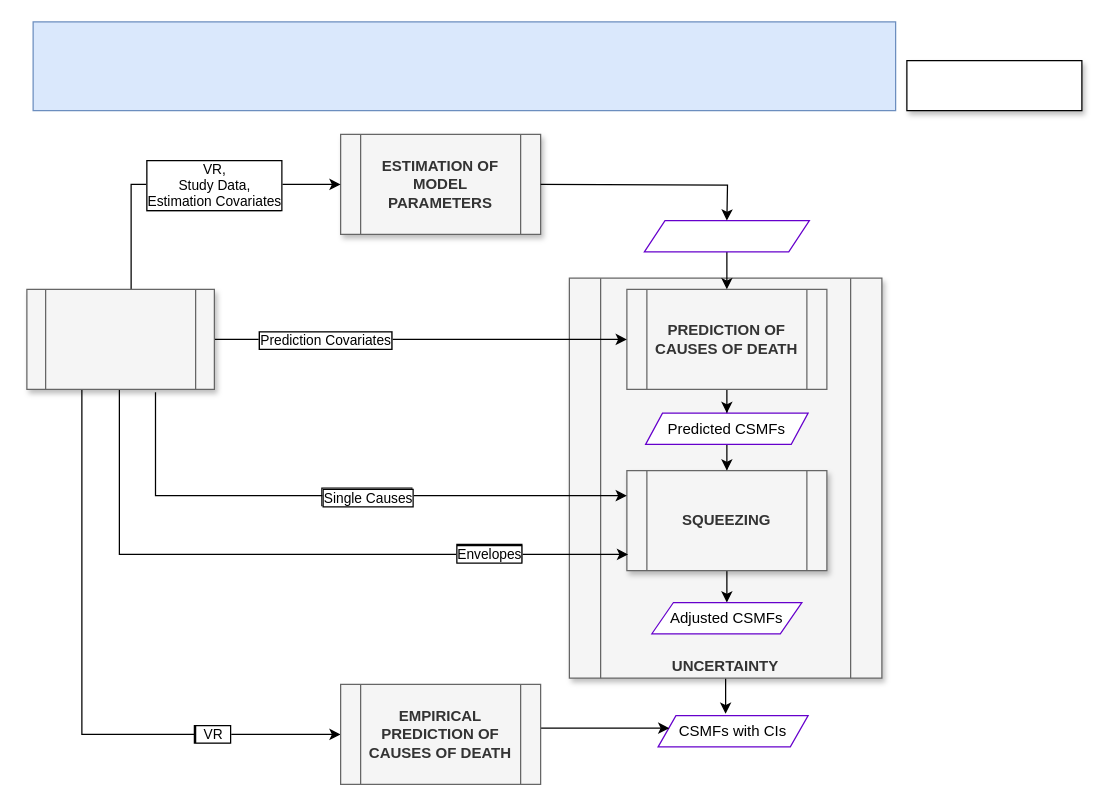
This 1111x806 diagram has some shape labels left out. Each missing label, with the centre of its shape:
"Child and Adolescent Causes of Death Estimation (CA-CODE)" belongs at (464,66).
"DATA PROCURMENT AND PROCESSING" belongs at (121,340).
"Meeting Agenda" belongs at (995,86).
"Model parameters" belongs at (726,235).
